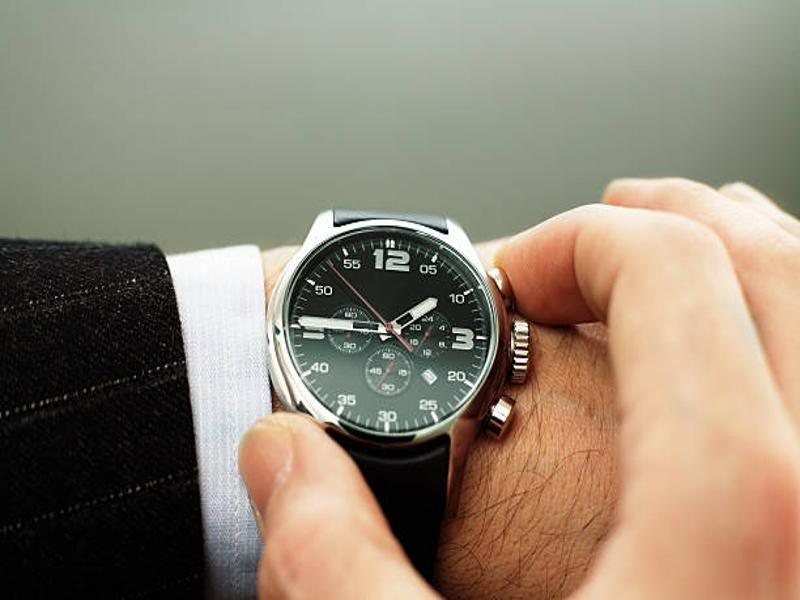watch: (262, 205, 531, 556)
